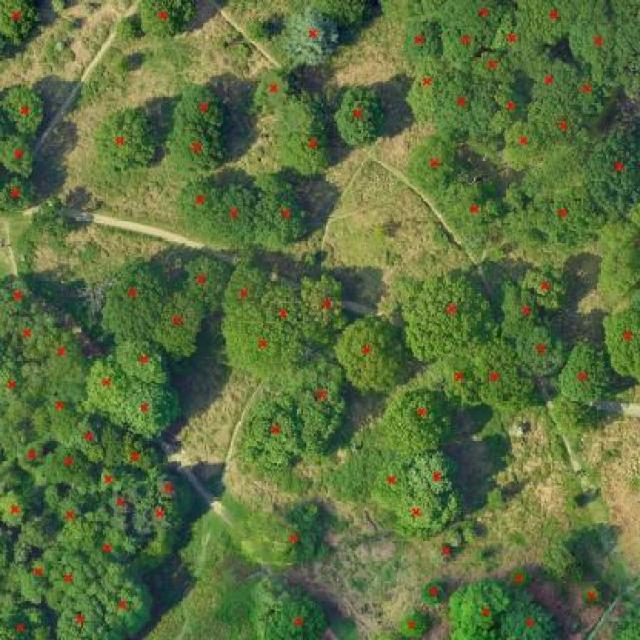tree: (403, 268, 502, 357), (282, 358, 355, 470), (331, 305, 412, 399), (210, 306, 315, 377), (93, 254, 167, 351), (244, 500, 344, 571), (372, 376, 457, 456), (265, 94, 339, 183), (90, 557, 168, 640), (112, 373, 192, 450), (237, 390, 303, 481), (145, 284, 219, 365), (89, 102, 163, 179), (556, 6, 624, 89), (580, 125, 640, 213), (399, 128, 483, 189), (327, 74, 390, 155), (273, 7, 349, 73), (383, 482, 465, 541), (163, 73, 242, 133), (433, 176, 513, 235), (110, 332, 184, 395), (253, 172, 313, 249), (525, 192, 612, 243), (472, 348, 538, 415), (32, 328, 97, 395), (442, 575, 509, 640), (33, 445, 107, 503), (553, 340, 616, 408), (212, 172, 261, 258), (594, 303, 640, 394), (496, 580, 565, 640), (519, 0, 603, 49), (76, 350, 135, 419), (254, 591, 337, 640), (432, 9, 495, 73), (31, 381, 89, 450), (510, 313, 568, 382), (436, 55, 482, 140), (46, 591, 125, 640), (243, 65, 312, 121), (164, 121, 236, 174), (518, 254, 579, 315), (214, 260, 274, 322), (180, 246, 232, 317), (0, 348, 45, 429), (403, 48, 449, 127), (169, 168, 218, 242), (495, 109, 548, 177), (127, 491, 193, 544), (297, 268, 349, 334), (544, 391, 607, 445), (481, 77, 532, 143), (0, 83, 60, 139), (518, 50, 580, 104), (452, 0, 531, 42), (486, 10, 549, 62), (594, 235, 640, 306), (433, 349, 484, 412), (408, 448, 466, 503), (528, 99, 587, 153), (133, 0, 205, 43), (361, 445, 408, 507), (13, 550, 59, 613), (255, 283, 303, 343), (78, 525, 138, 572), (12, 426, 57, 486), (499, 283, 544, 343), (309, 0, 385, 35), (0, 303, 51, 355), (65, 410, 113, 465), (397, 15, 446, 68), (0, 268, 49, 320), (108, 435, 168, 477), (0, 0, 46, 54), (0, 127, 43, 184), (0, 481, 40, 533), (0, 177, 48, 220), (50, 558, 96, 602), (88, 465, 139, 501), (153, 471, 193, 515), (606, 592, 640, 639), (100, 489, 138, 529), (389, 606, 433, 640), (500, 557, 538, 595), (110, 11, 145, 48), (51, 498, 89, 532), (0, 607, 40, 639), (481, 481, 513, 517), (573, 583, 610, 614), (242, 13, 273, 47), (416, 579, 450, 610), (109, 60, 143, 88), (428, 543, 457, 571), (557, 493, 585, 519), (443, 523, 465, 549), (462, 529, 486, 549), (46, 0, 69, 17)
